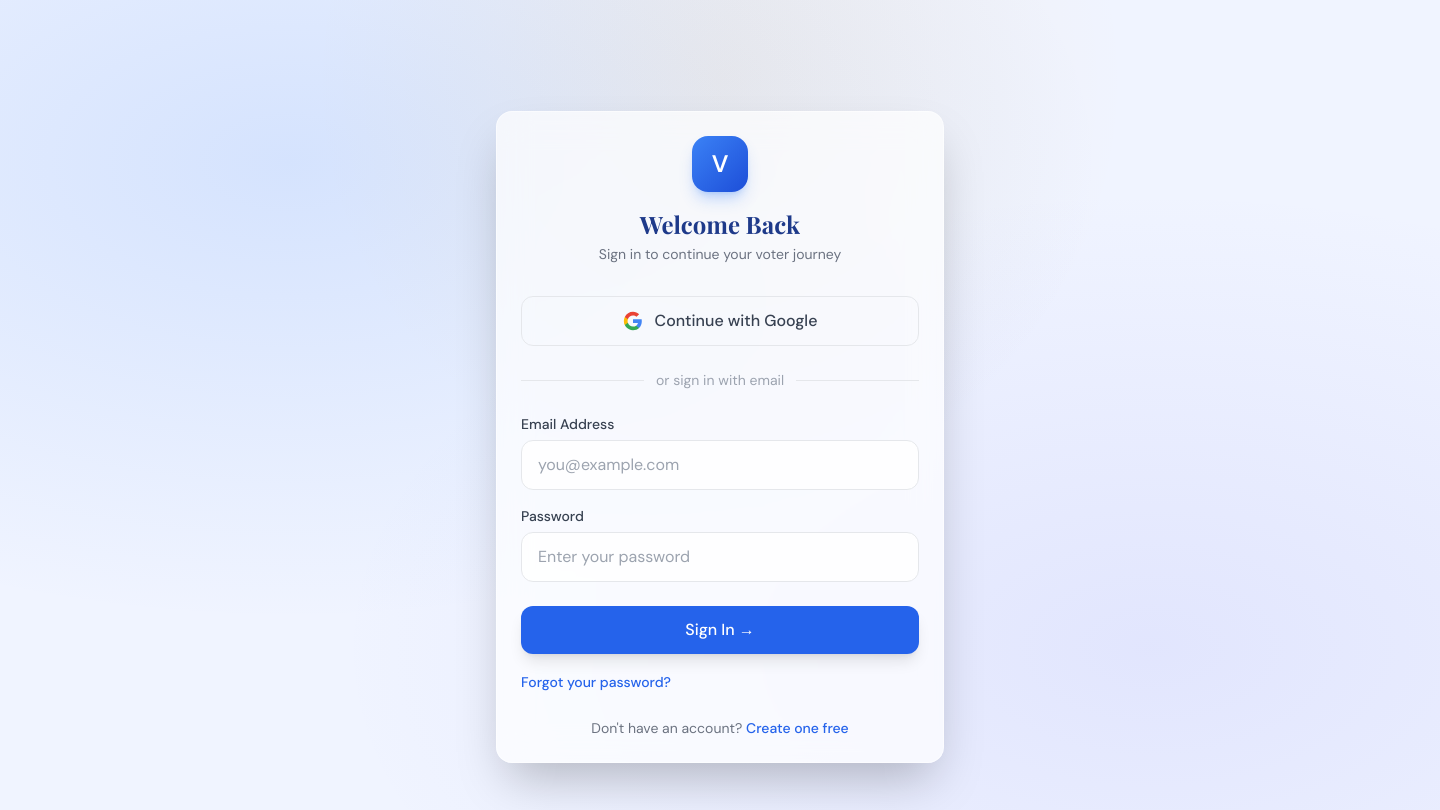
Test case: Login Page › shows validation error on empty form submit
This screenshot has width=1440, height=810.
Click the button "Continue with Google": (720,321) top-left (521, 296), bottom-right (919, 346)
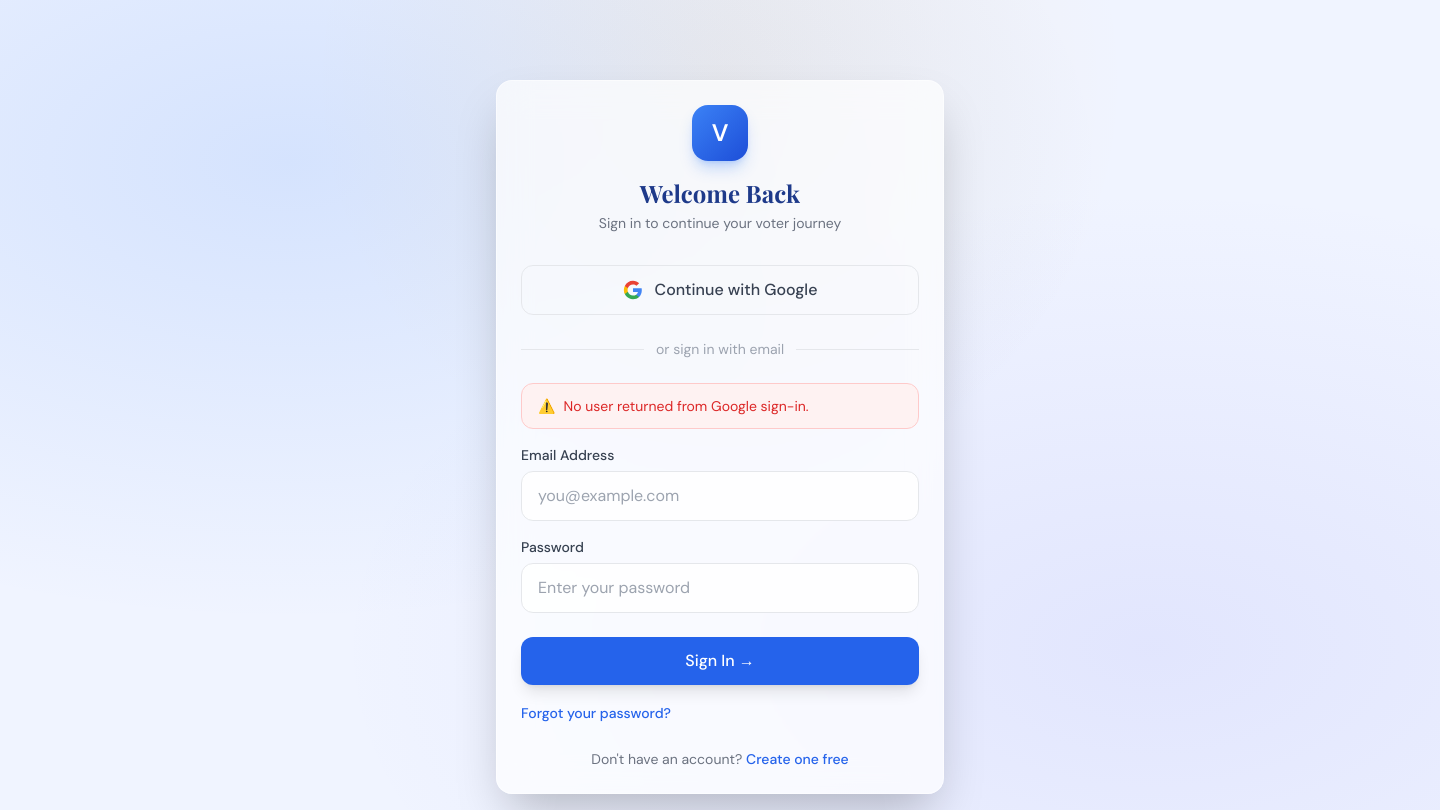
Check: the message "⚠️ No user returned from Google sign-in." is shown, box top-left (521, 383), bottom-right (919, 429)
